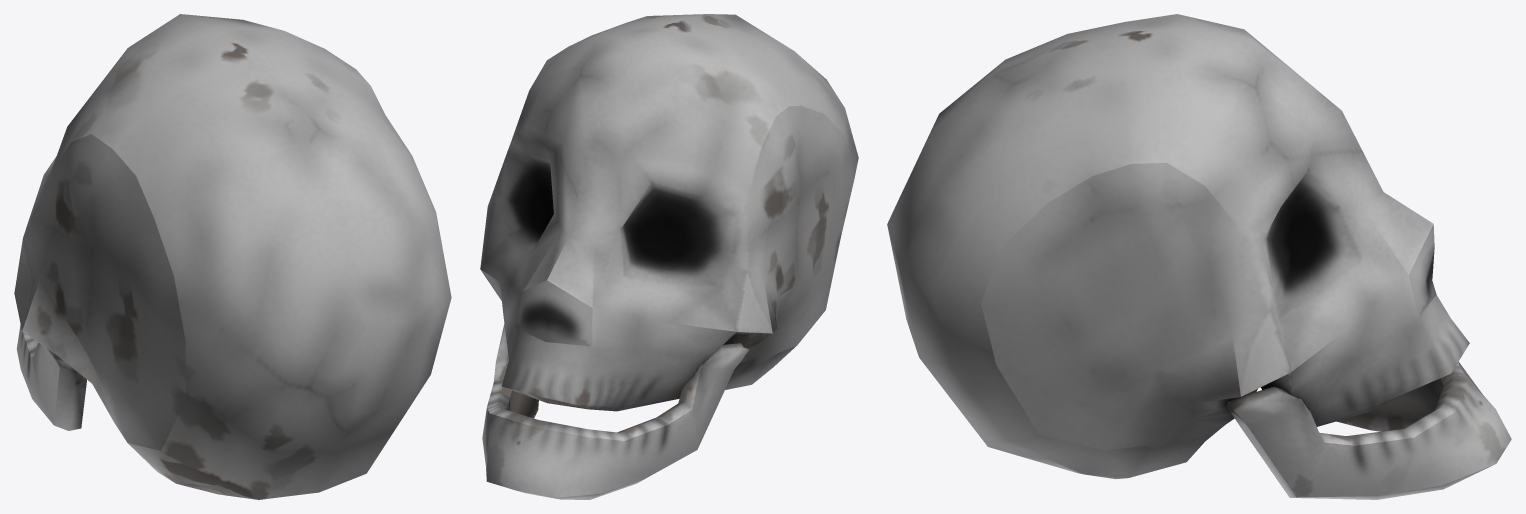
Rendered from bone_skull.fbx.
The picture shows the model from 3 angles, left to right: view 1: azimuth 30°, elevation 25°; view 2: azimuth 150°, elevation 25°; view 3: azimuth 270°, elevation 25°; orthographic projection. The views are drawn at different scales.
Parts seen in each view (by area): view 1: skull, skull_jaw; view 2: skull, skull_jaw; view 3: skull, skull_jaw.
Boxes of the visible parts, x1=… form: skull: x1=14, y1=14, x2=451, y2=499; skull_jaw: x1=16, y1=324, x2=86, y2=430; skull: x1=480, y1=14, x2=858, y2=411; skull_jaw: x1=482, y1=324, x2=749, y2=499; skull: x1=887, y1=14, x2=1469, y2=479; skull_jaw: x1=1227, y1=361, x2=1511, y2=499.
Size of the model in its own units: 19.19 by 23.81 by 31.21.
